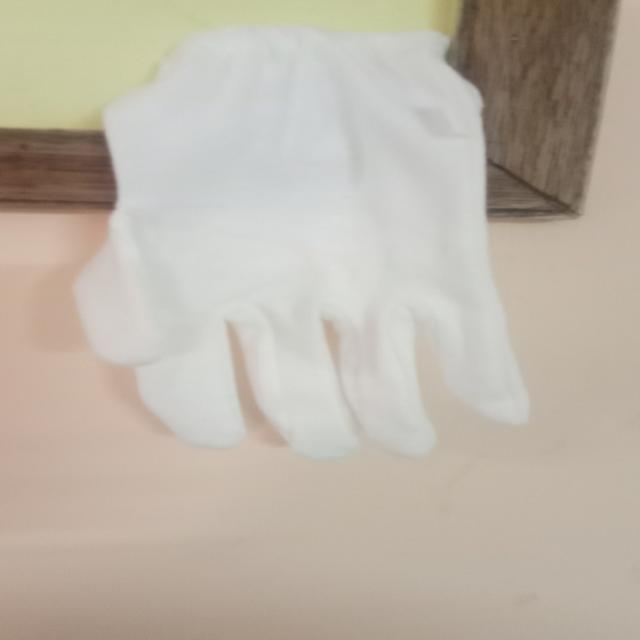glove: (60, 19, 544, 464)
